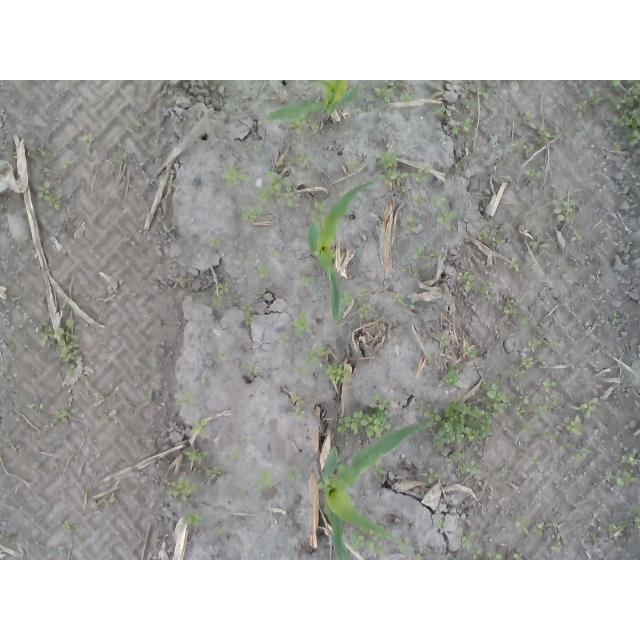Maize: (323, 420, 433, 560), (309, 180, 380, 322), (265, 80, 360, 122)
Weeds: (425, 382, 512, 447), (335, 393, 393, 439), (610, 80, 640, 156), (35, 318, 81, 362), (255, 171, 308, 209), (514, 376, 562, 417), (605, 449, 640, 488), (522, 109, 559, 143), (343, 528, 386, 557), (448, 449, 488, 479), (31, 178, 66, 211), (376, 150, 409, 182), (573, 87, 605, 119), (430, 195, 458, 231), (457, 272, 491, 301), (375, 80, 416, 102), (168, 479, 200, 505), (514, 511, 545, 537), (553, 415, 584, 440), (175, 384, 198, 416), (288, 115, 321, 137), (521, 336, 543, 369), (223, 163, 252, 188), (461, 528, 483, 560), (288, 311, 314, 337), (409, 245, 445, 263), (326, 363, 355, 384), (553, 199, 576, 225), (572, 397, 600, 418), (408, 162, 433, 185), (254, 469, 281, 490), (511, 138, 538, 159), (306, 343, 330, 365), (285, 153, 320, 168), (211, 280, 229, 308), (22, 143, 50, 160), (445, 361, 463, 387), (50, 408, 73, 428), (310, 199, 327, 226), (184, 448, 211, 465), (606, 520, 627, 541), (498, 297, 518, 319), (184, 511, 208, 529), (190, 417, 210, 437), (425, 463, 443, 485), (504, 255, 525, 273), (240, 207, 264, 222), (399, 536, 416, 557), (241, 303, 256, 326), (409, 191, 428, 209), (572, 447, 593, 463), (291, 394, 305, 418), (255, 263, 274, 280), (297, 274, 322, 286), (206, 464, 223, 481), (161, 222, 178, 239), (288, 463, 304, 481), (558, 440, 576, 456), (247, 143, 263, 161), (463, 114, 481, 130), (629, 503, 640, 529), (495, 465, 514, 480), (511, 364, 528, 380), (341, 287, 355, 306), (515, 422, 537, 434), (207, 235, 225, 249), (356, 303, 370, 321), (404, 215, 418, 233), (479, 86, 498, 99), (462, 98, 482, 110), (246, 363, 262, 378), (365, 96, 379, 113), (277, 331, 291, 348), (570, 224, 583, 242), (369, 464, 387, 477), (227, 447, 242, 462), (28, 402, 45, 415), (465, 344, 480, 358), (288, 367, 306, 378), (434, 104, 447, 119), (355, 80, 370, 93), (390, 293, 406, 305), (486, 550, 505, 560), (525, 167, 542, 178), (430, 91, 446, 102), (112, 151, 128, 162), (528, 455, 545, 465), (82, 132, 96, 144), (403, 298, 417, 310), (316, 479, 331, 490), (357, 287, 372, 298), (217, 351, 233, 361), (400, 184, 413, 196), (62, 520, 74, 533), (478, 229, 490, 242), (435, 519, 450, 529), (104, 496, 120, 505), (511, 550, 525, 560), (351, 158, 362, 170), (440, 335, 451, 347), (40, 167, 53, 177), (451, 127, 462, 138), (335, 463, 346, 474), (451, 552, 466, 560), (543, 430, 557, 438), (551, 543, 562, 553), (143, 397, 154, 407), (246, 436, 258, 445), (175, 275, 185, 285), (63, 159, 73, 169), (591, 531, 601, 541), (237, 488, 247, 497), (519, 318, 530, 326), (495, 238, 506, 246), (271, 250, 282, 257), (168, 179, 177, 187), (413, 553, 423, 560)
